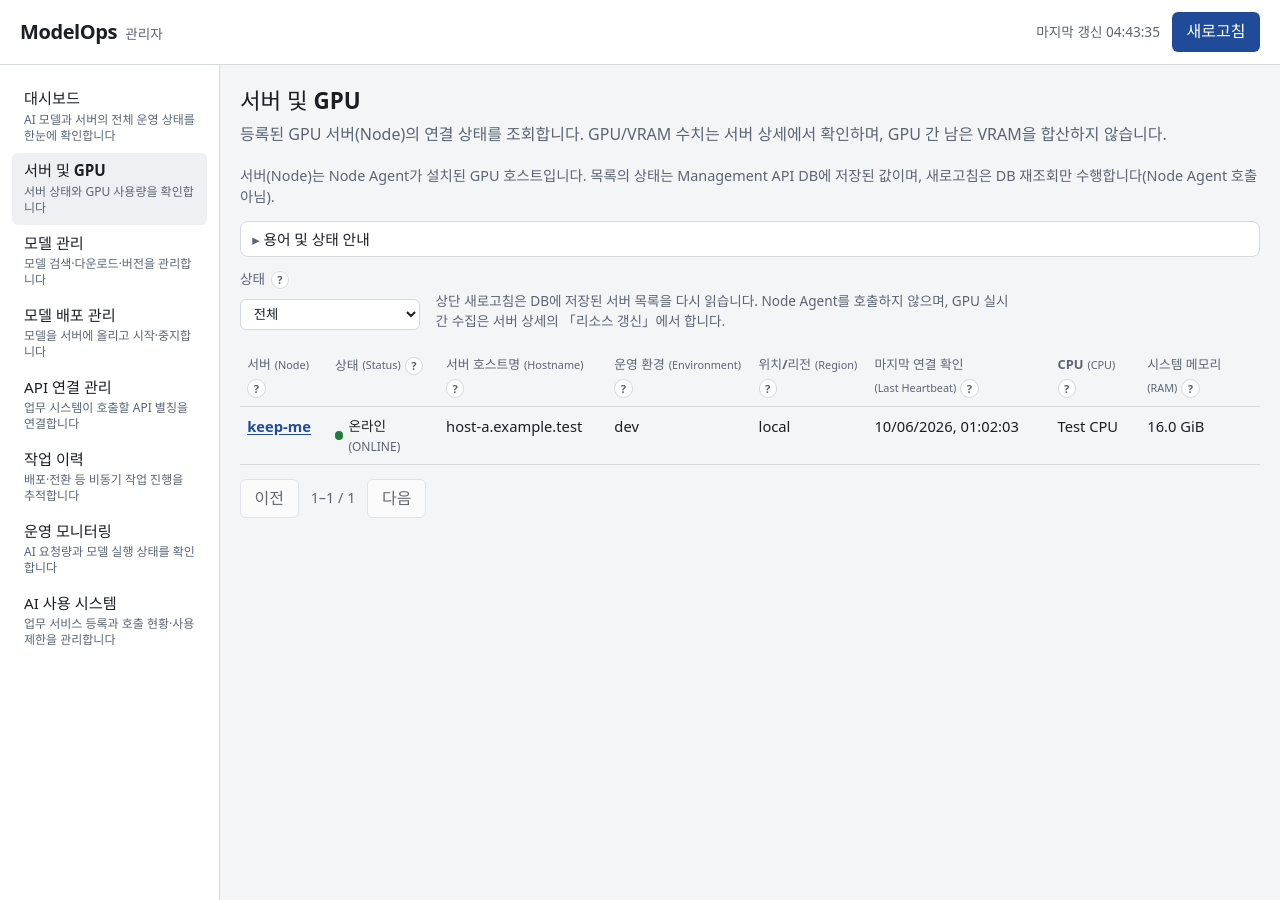
Test: NodesPage › preserves previous rows on refresh failure
This screenshot has width=1280, height=900.
Check: the link "keep-me" is shown, box [247,416,311,436]
Click the button "새로고침": {"x": 1216, "y": 32} [1172,12,1260,52]
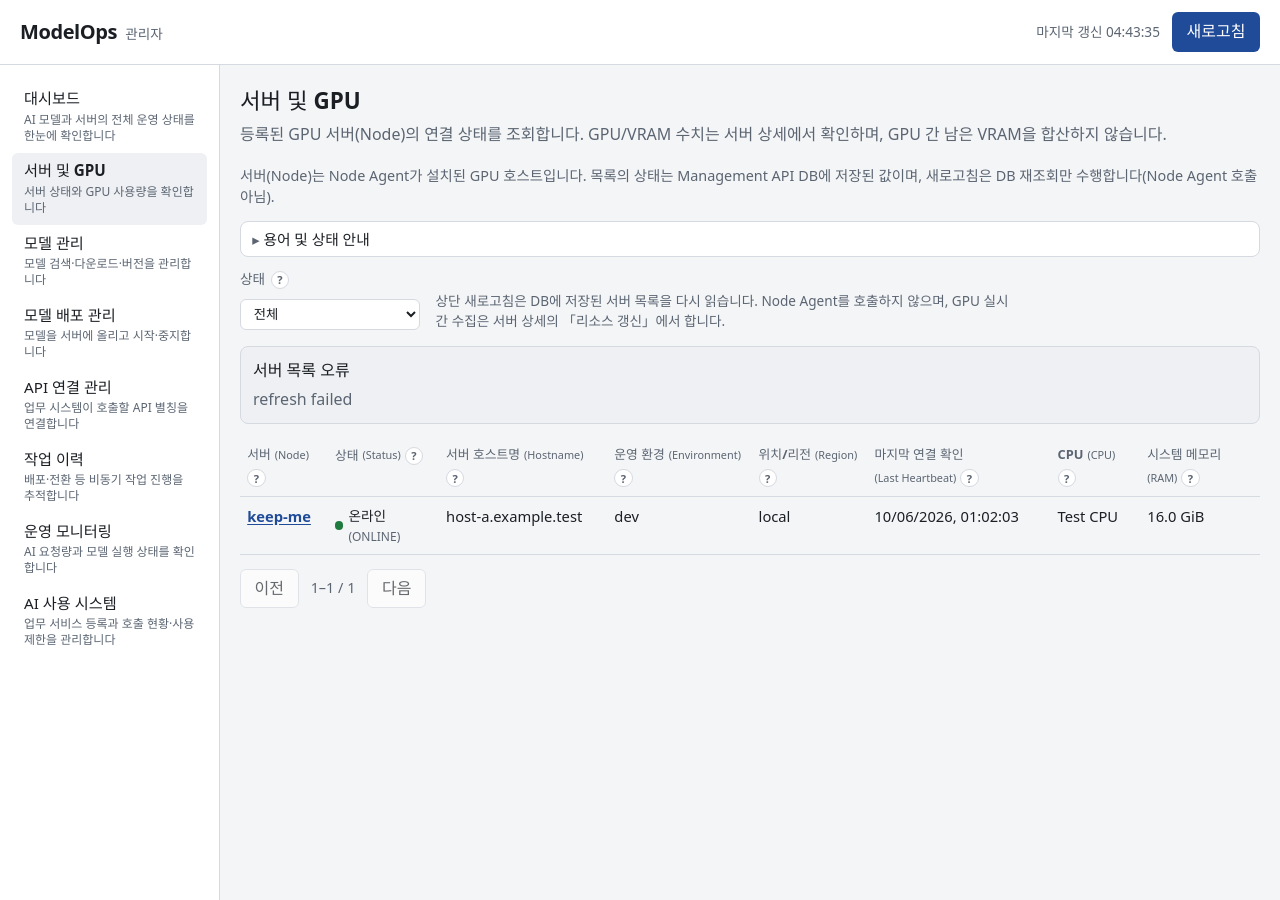
Check: the link "keep-me" is shown, box [247,506,311,526]
Check: the text "refresh failed" is shown, box [253,388,352,410]
